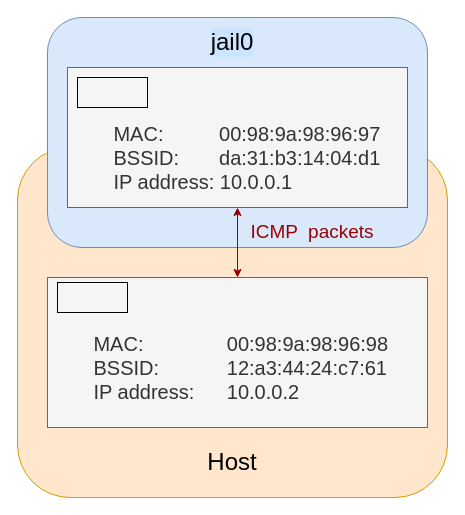
Image size: 465x515. Some labels were removed from this diagram. The shapes that lost their labels are listed below. From the top down, each one's centre as x and y in pixels, then its label:
At pixel 112 92: "wlan0".
At pixel 92 297: "wlan1".
